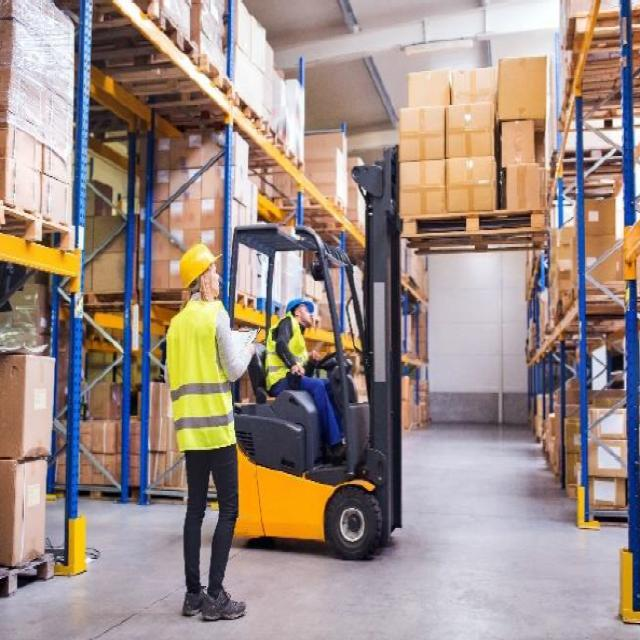Person: (167, 245, 255, 624), (266, 300, 350, 442)
